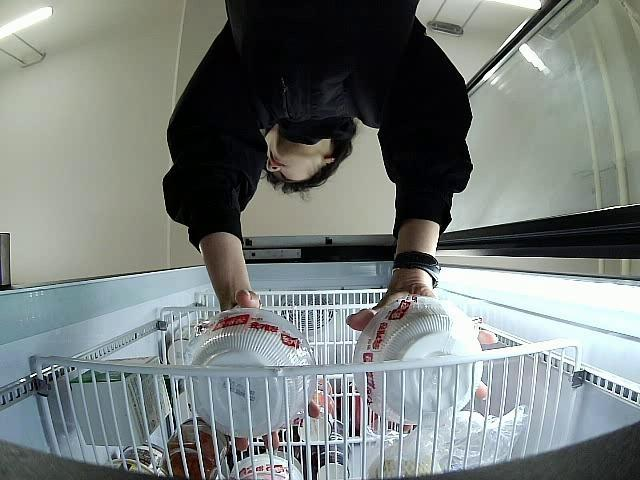09_yukGaeJang: (353, 293, 484, 424), (185, 307, 314, 438)
